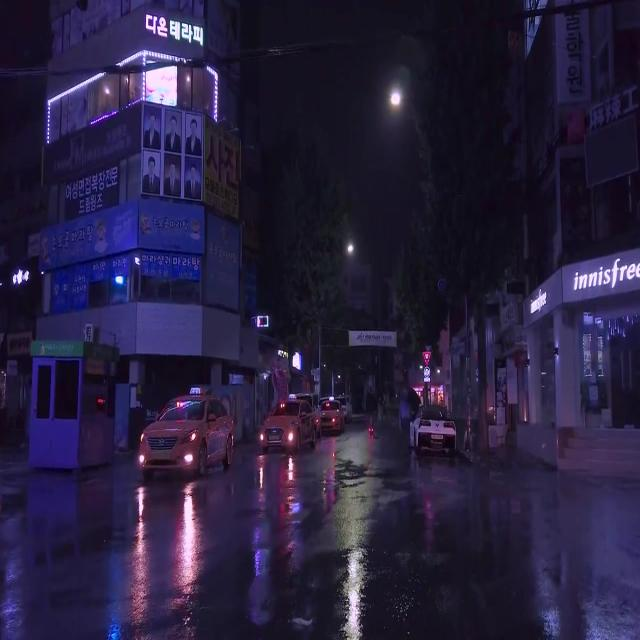Car: (136, 393, 233, 476), (256, 392, 317, 451)
